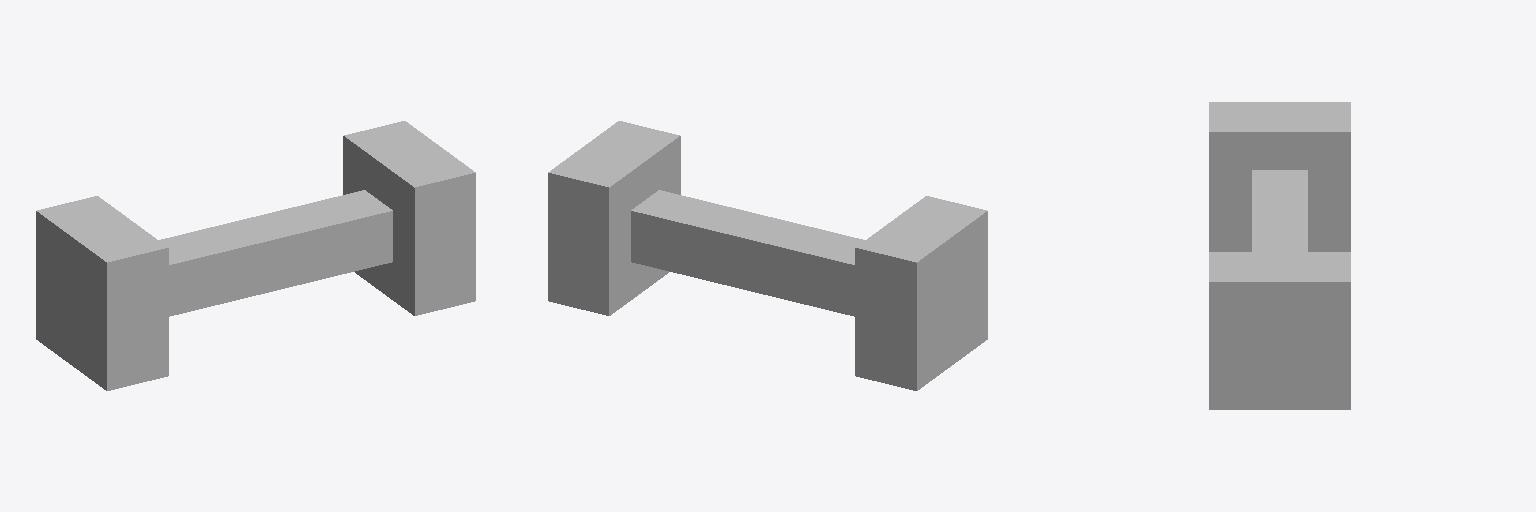
File: wheel_small.obj
3 renders of one model, left to right at view 1: azimuth 30°, elevation 25°; view 2: azimuth 150°, elevation 25°; view 3: azimuth 270°, elevation 25°, orthographic.
Parts seen in each view (by area): view 1: Cube_Cube.001; view 2: Cube_Cube.001; view 3: Cube_Cube.001.
Boxes of the visible parts, box(x1,y1,x2,y2) form: Cube_Cube.001: box(36, 121, 475, 390); Cube_Cube.001: box(548, 121, 987, 390); Cube_Cube.001: box(1209, 102, 1350, 409).
Size of the model in its own units: 0.75 by 0.25 by 0.25.